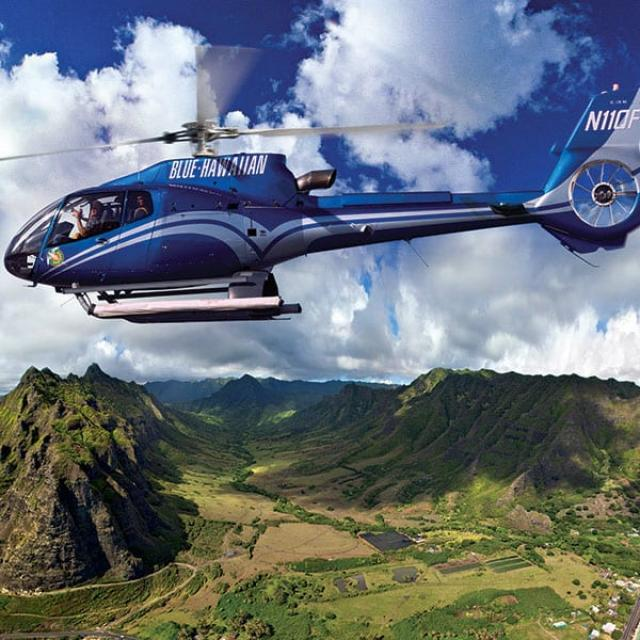helicopter: (2, 40, 640, 357)
